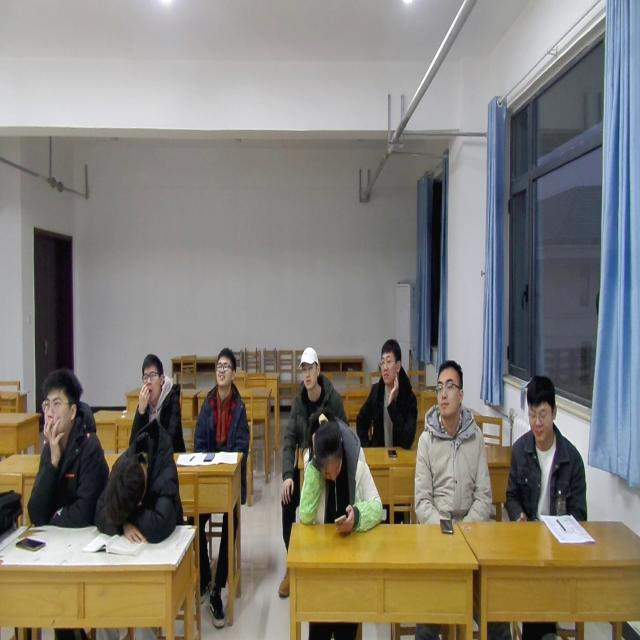bow: (90, 414, 188, 545), (297, 411, 386, 536)
down: (522, 370, 560, 448), (308, 416, 348, 487)
lookup: (36, 364, 86, 442), (432, 356, 464, 418), (374, 336, 406, 392), (136, 346, 164, 406), (294, 340, 322, 392), (210, 341, 238, 387)
sit: (26, 366, 110, 532), (414, 356, 494, 528), (504, 370, 590, 526), (354, 333, 421, 454), (190, 343, 252, 455), (126, 347, 188, 457), (282, 346, 344, 450)
